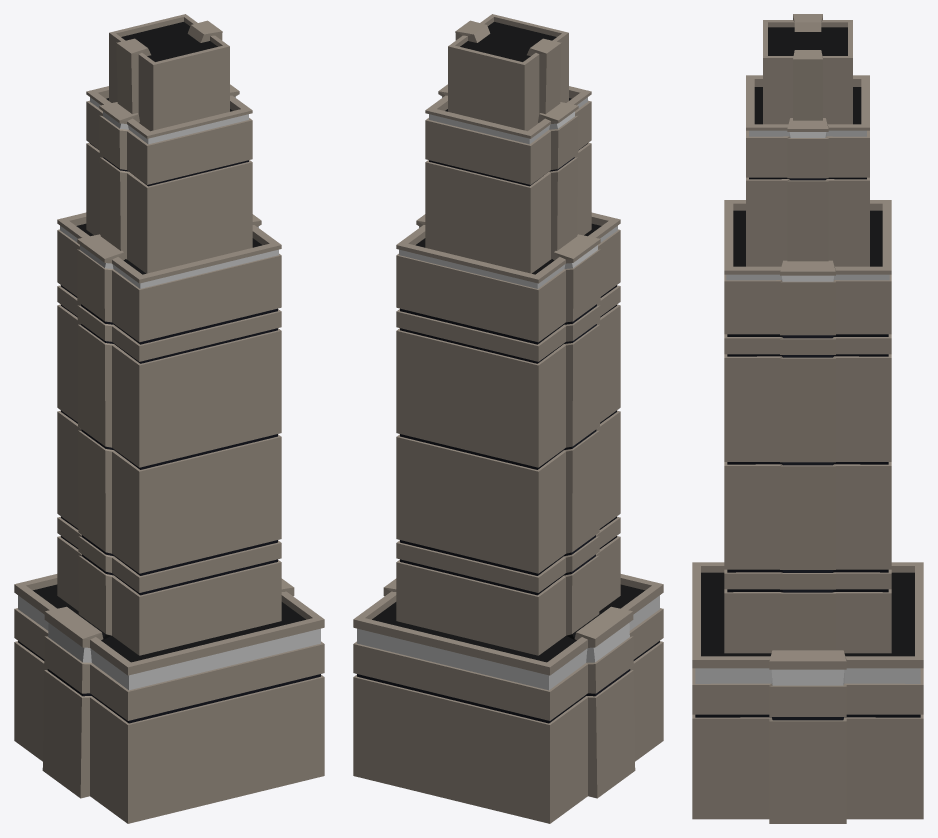
Rendered from buildingK4.obj.
The picture shows the model from 3 angles, left to right: view 1: azimuth 30°, elevation 25°; view 2: azimuth 150°, elevation 25°; view 3: azimuth 270°, elevation 25°; orthographic projection.
Parts seen in each view (by area): view 1: Cube.015_Cube.016; view 2: Cube.015_Cube.016; view 3: Cube.015_Cube.016.
Part boxes in pixels (box(x1,y1,x2,y2)): Cube.015_Cube.016: box(14, 14, 324, 823); Cube.015_Cube.016: box(353, 14, 663, 823); Cube.015_Cube.016: box(692, 14, 923, 823).
Size of the model in its own units: 20.66 by 66.13 by 18.86.
